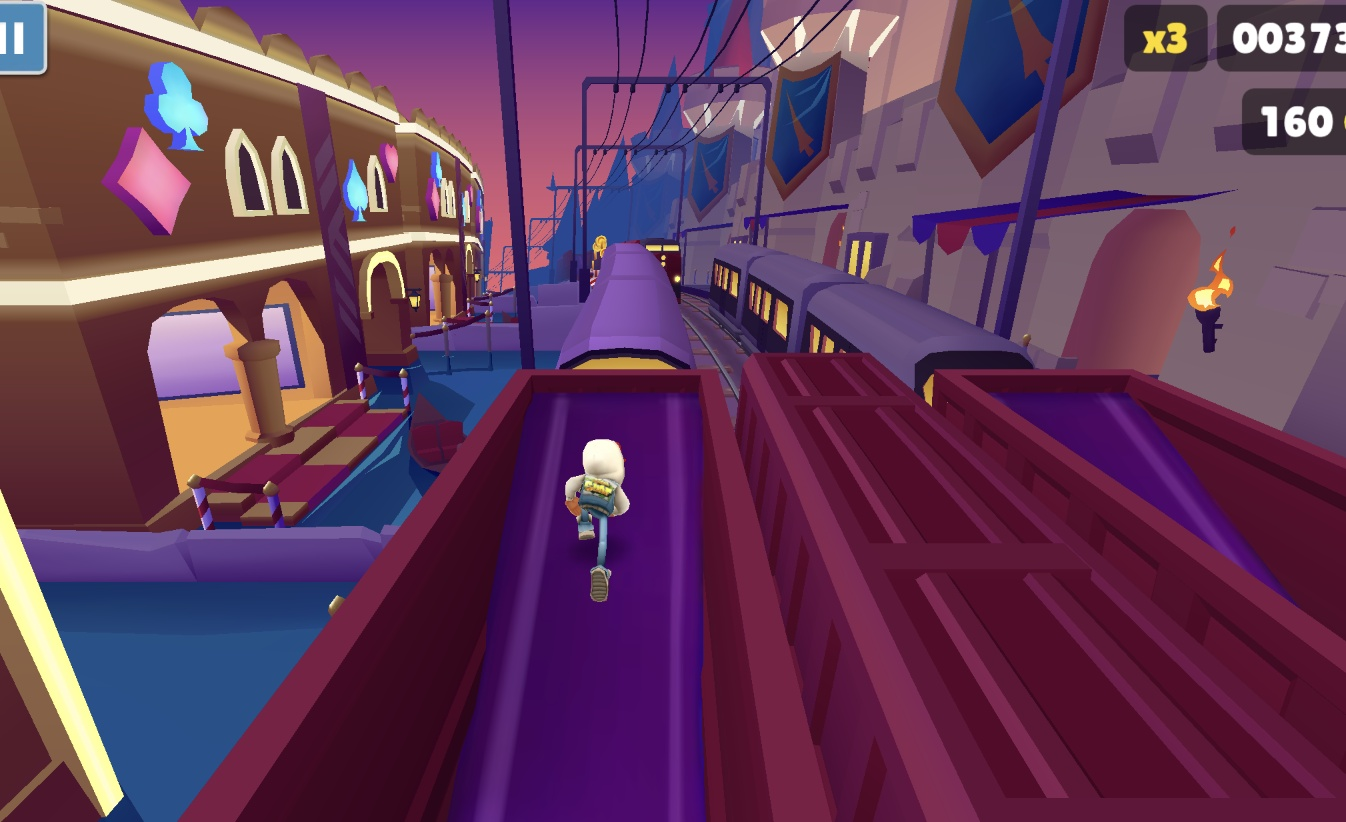train: (176, 368, 887, 822), (736, 351, 1346, 822), (933, 368, 1346, 670), (710, 244, 1035, 406), (554, 242, 695, 370), (627, 238, 684, 301)
